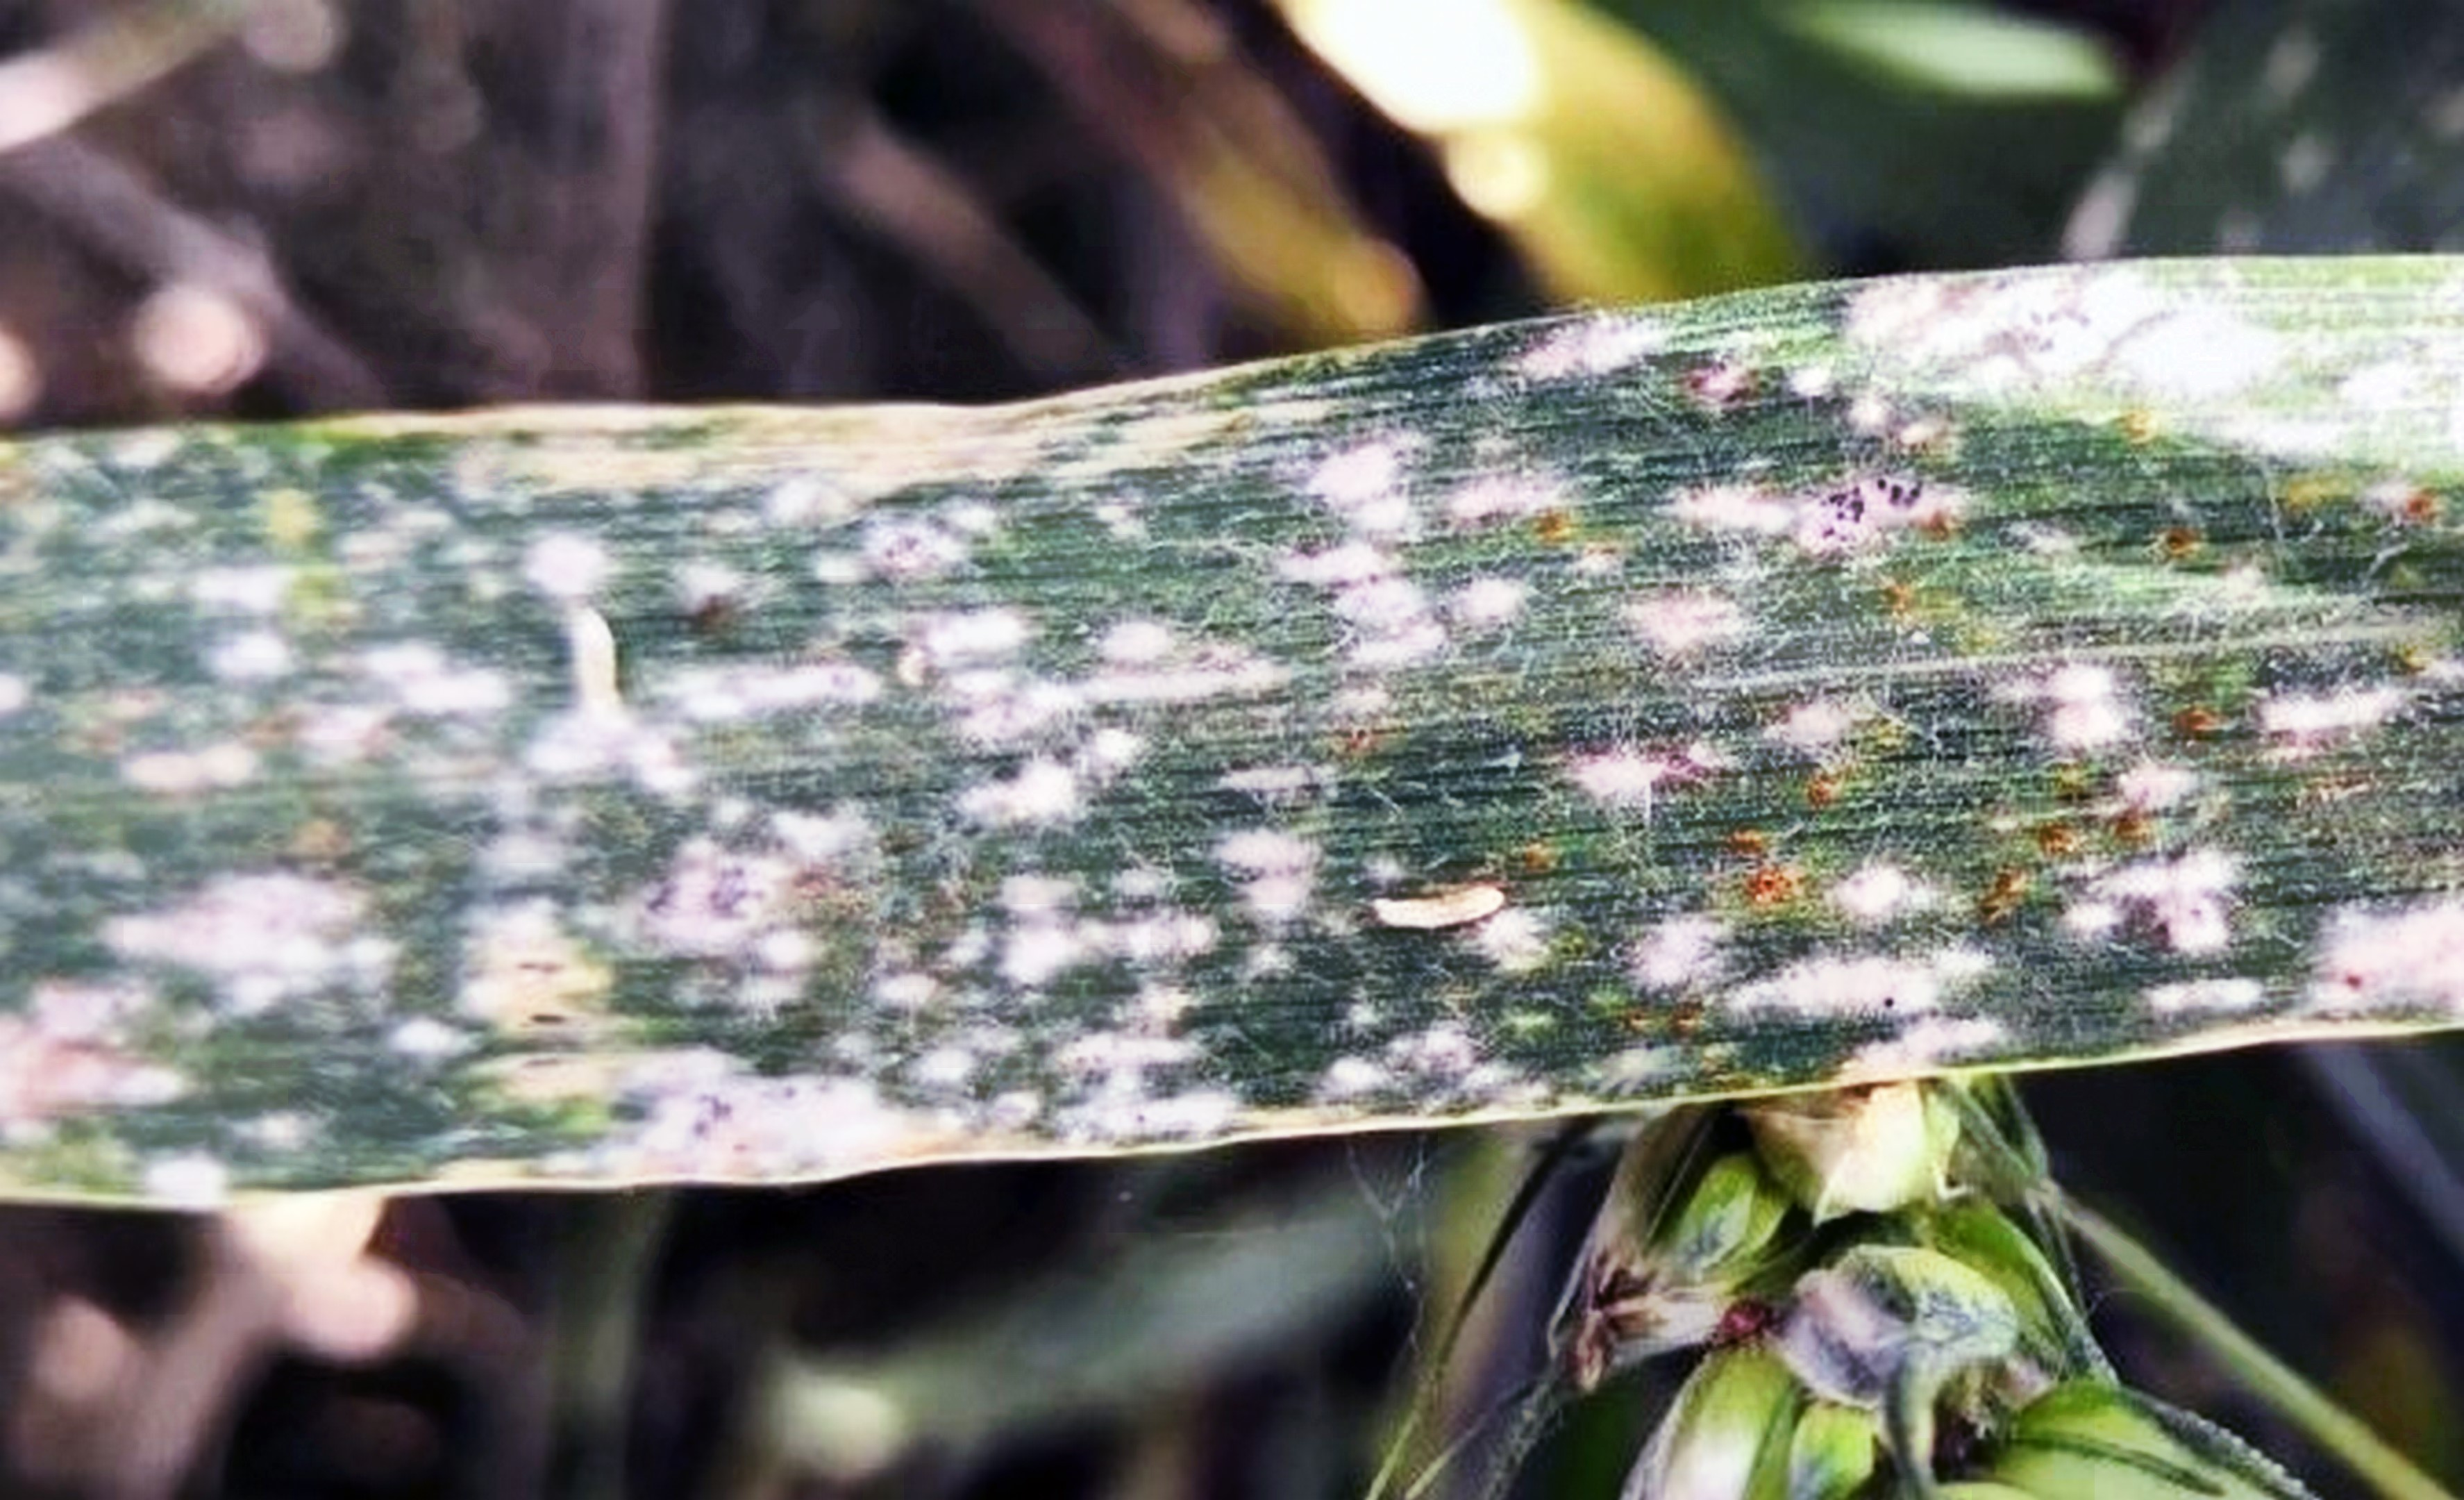Powdery Mildew: (269, 273, 2302, 1085)
